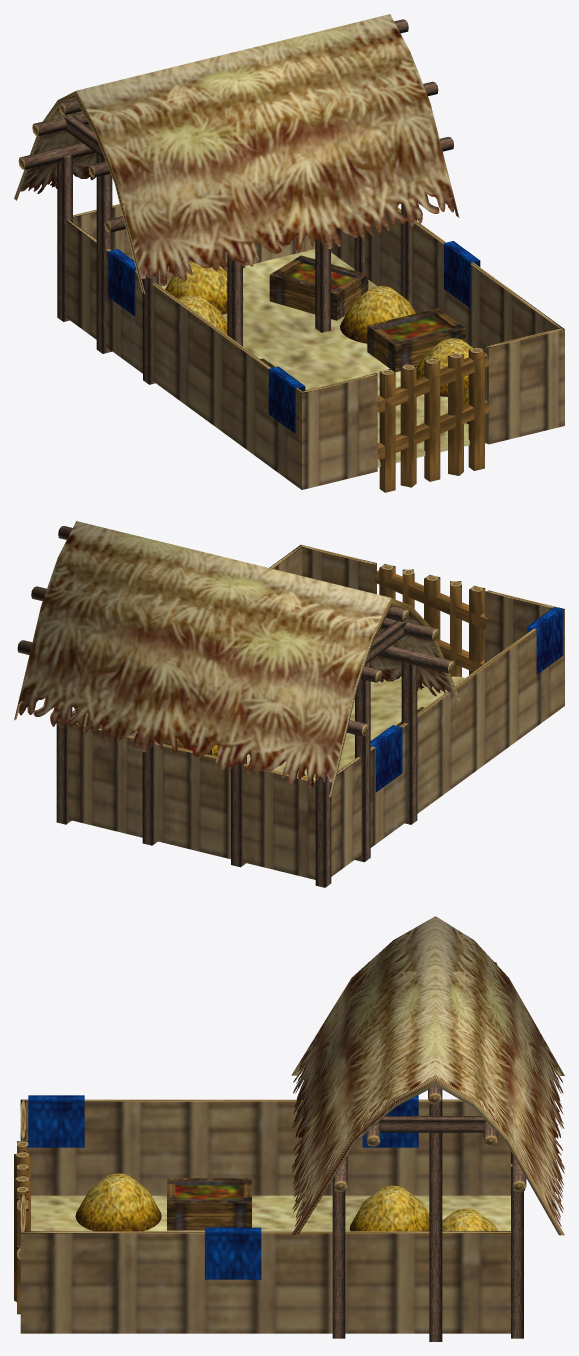
The model's file is corral.dae.
The picture shows the model from 3 angles, top to bottom: view 1: azimuth 30°, elevation 25°; view 2: azimuth 150°, elevation 25°; view 3: azimuth 270°, elevation 25°; orthographic projection. The views are drawn at different scales.
Parts seen in each view (by area): view 1: corral; view 2: corral; view 3: corral.
Boxes of the visible parts, box(x1,y1,x2,y2) form: corral: box(14, 14, 564, 492); corral: box(14, 521, 564, 887); corral: box(14, 916, 564, 1341).
Size of the model in its own units: 12.25 by 16.37 by 9.59.
